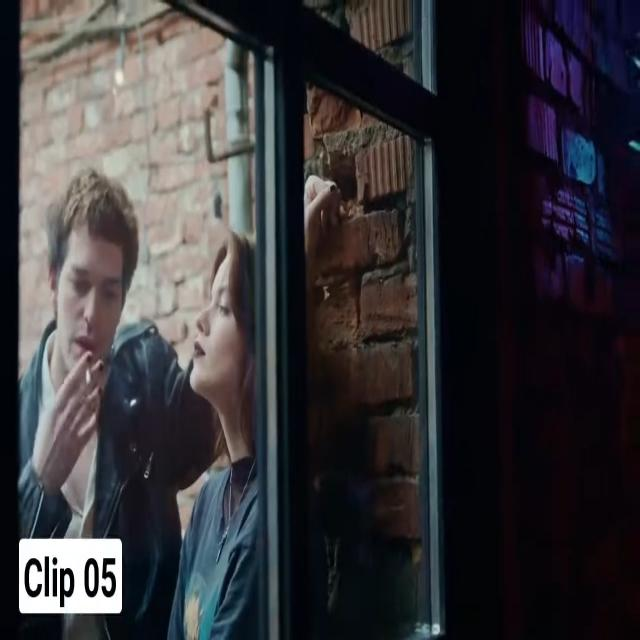Курение: (80, 362, 97, 392)
